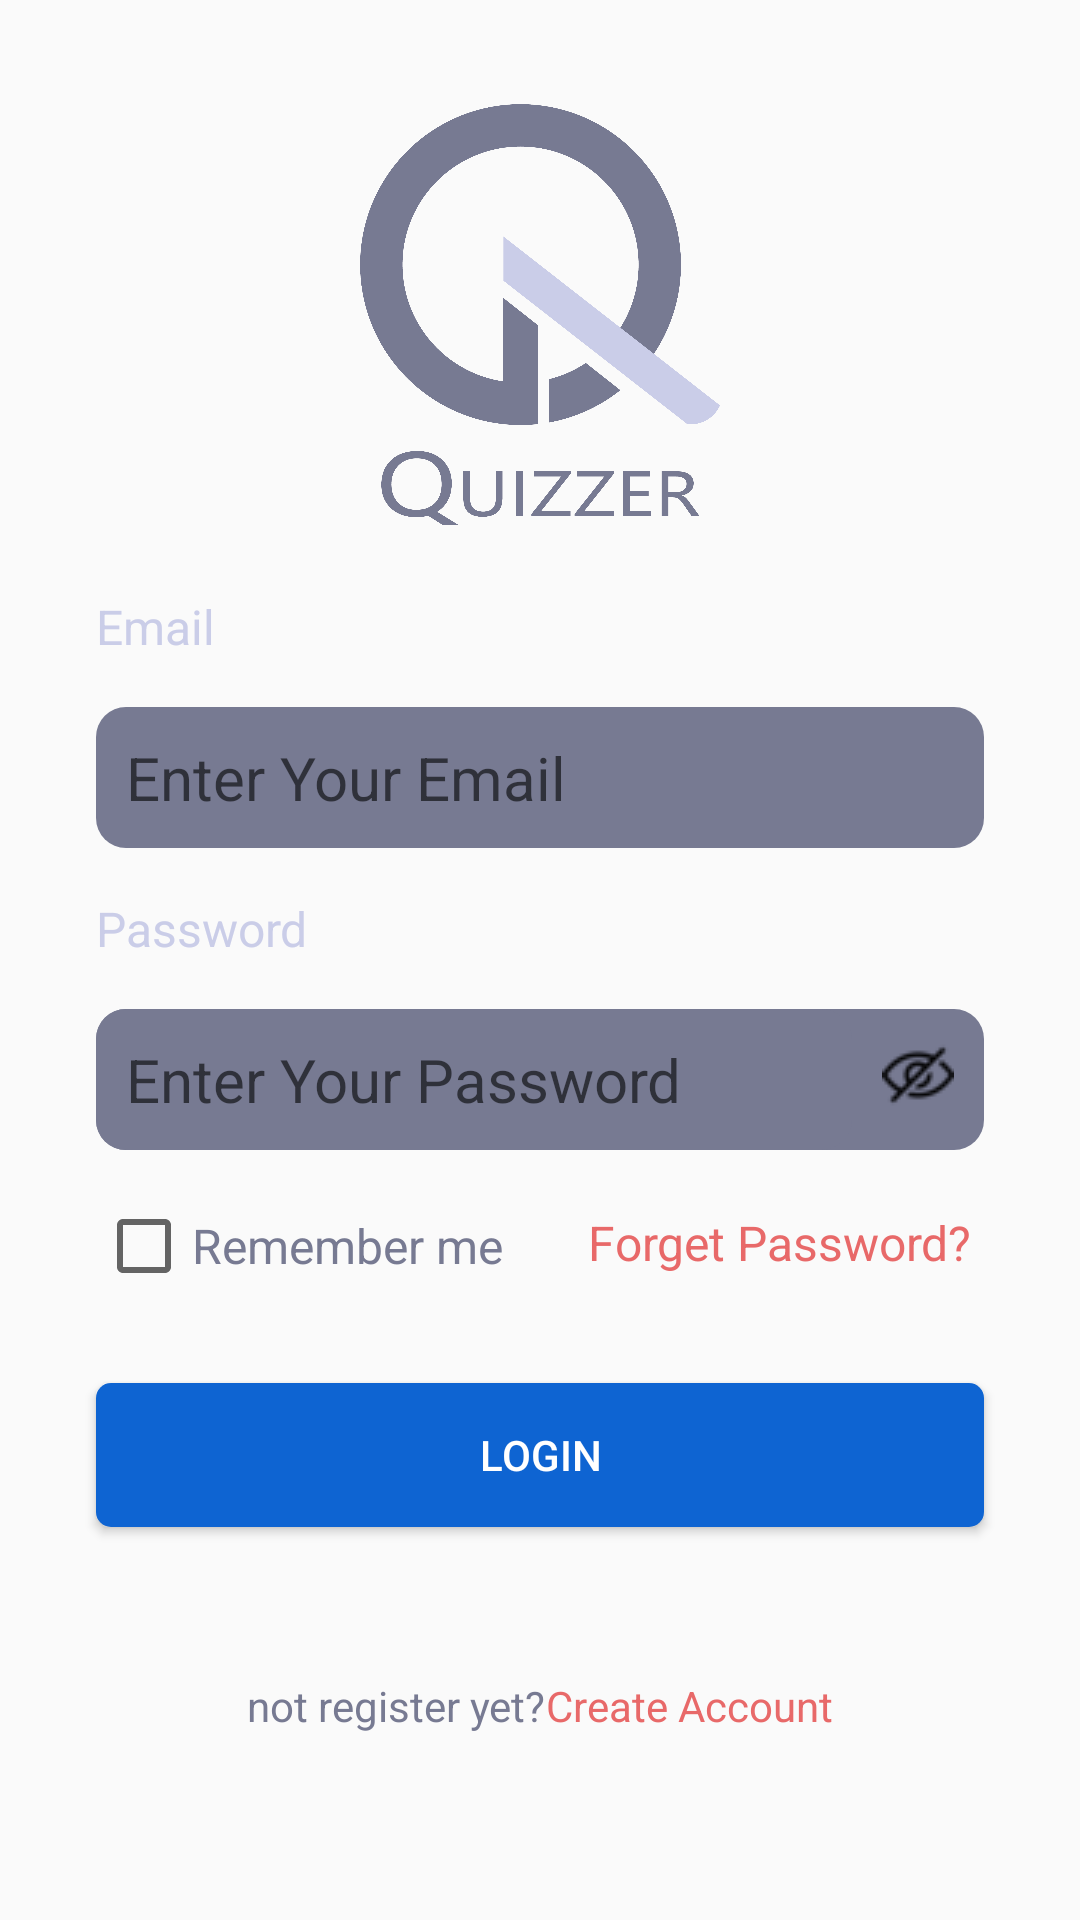

Where to tap for icons on this 1080w x 1920h app screen, as (x,y):
hide: (918,1075)
